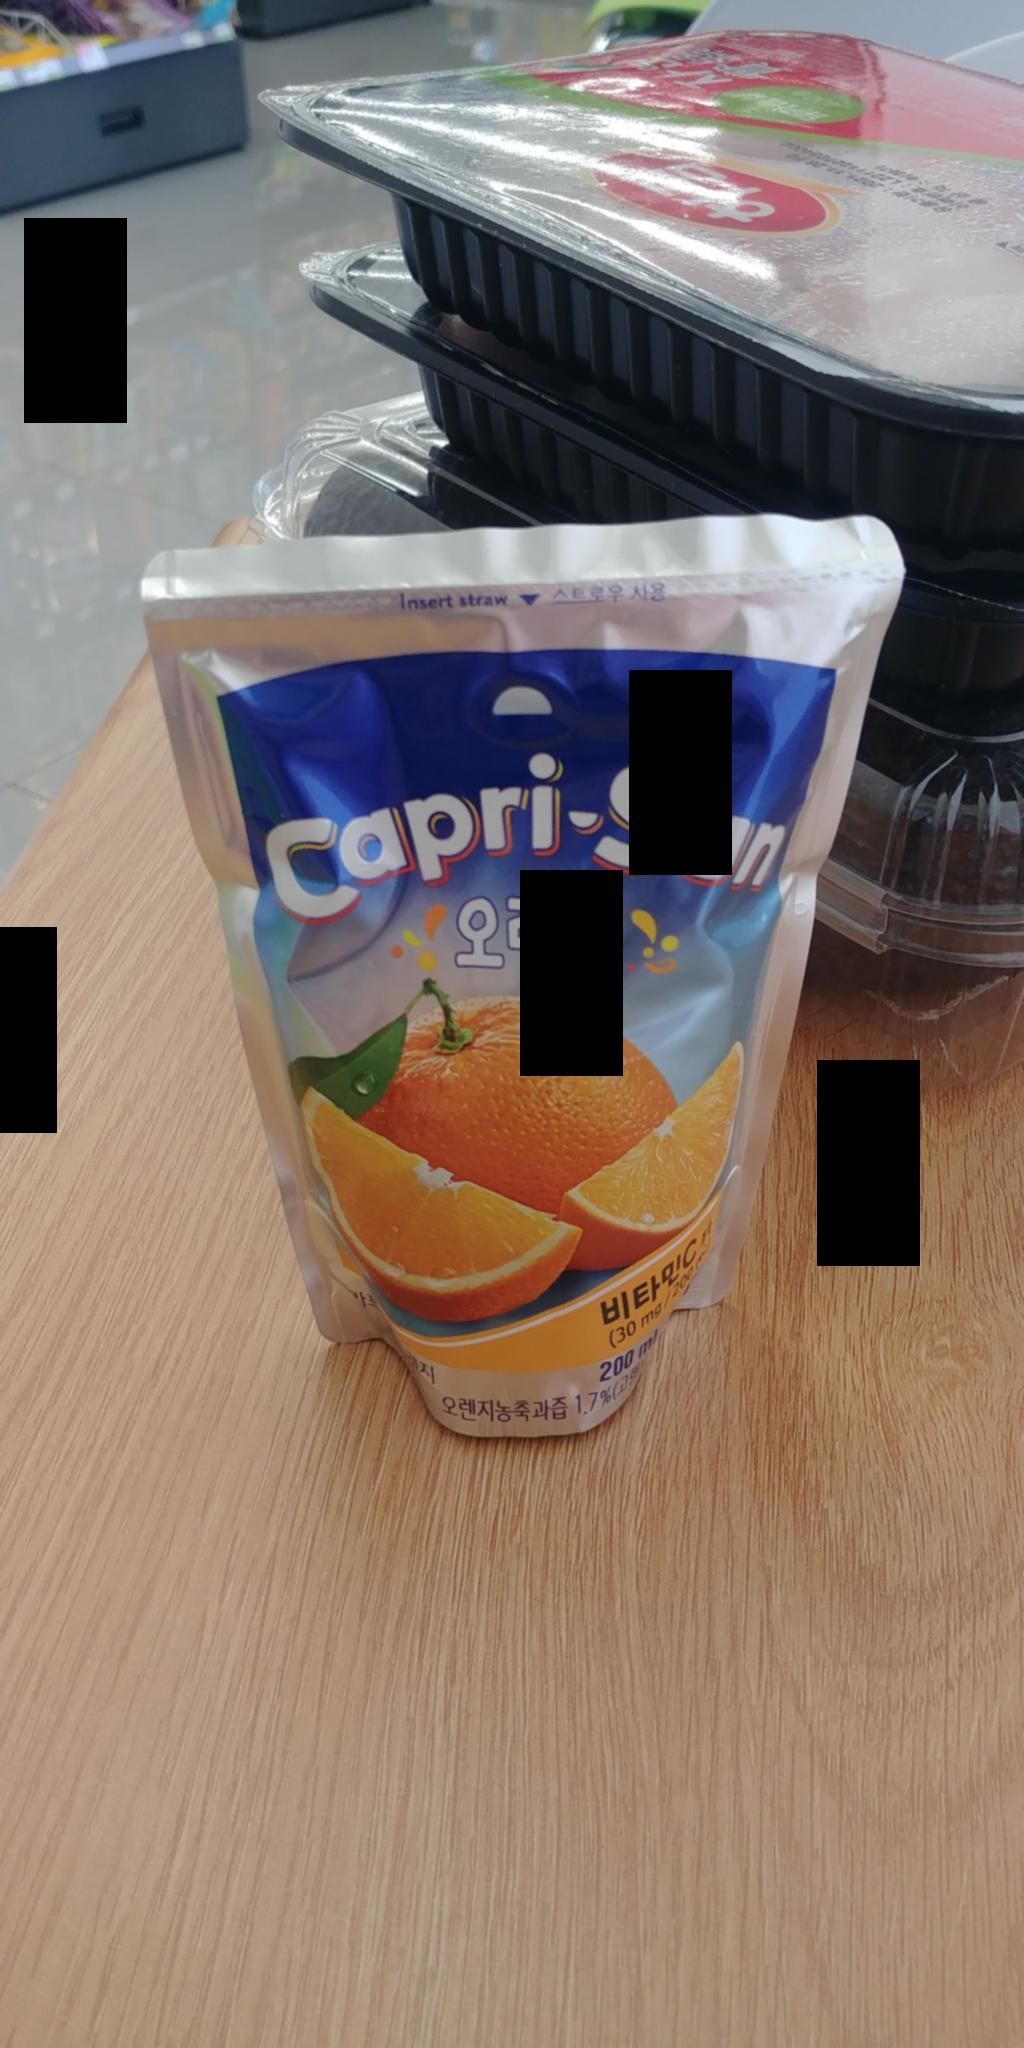cafrisun: (119, 512, 891, 1467)
